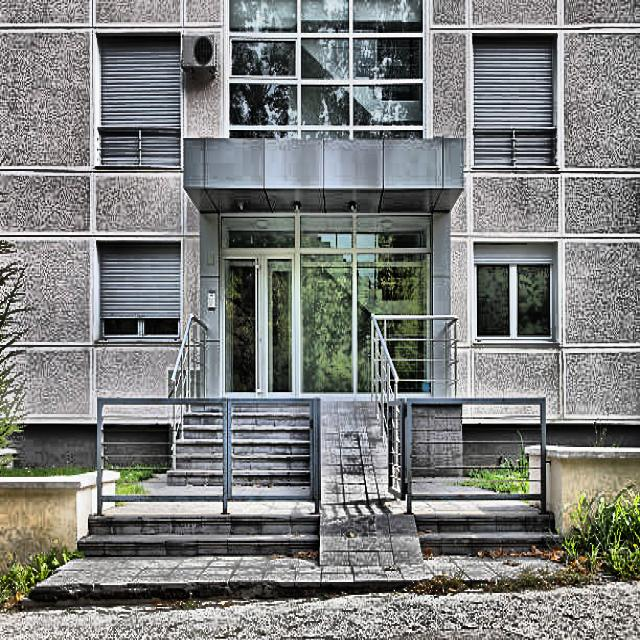escada: (74, 511, 318, 559), (168, 406, 312, 483), (416, 512, 568, 559)
